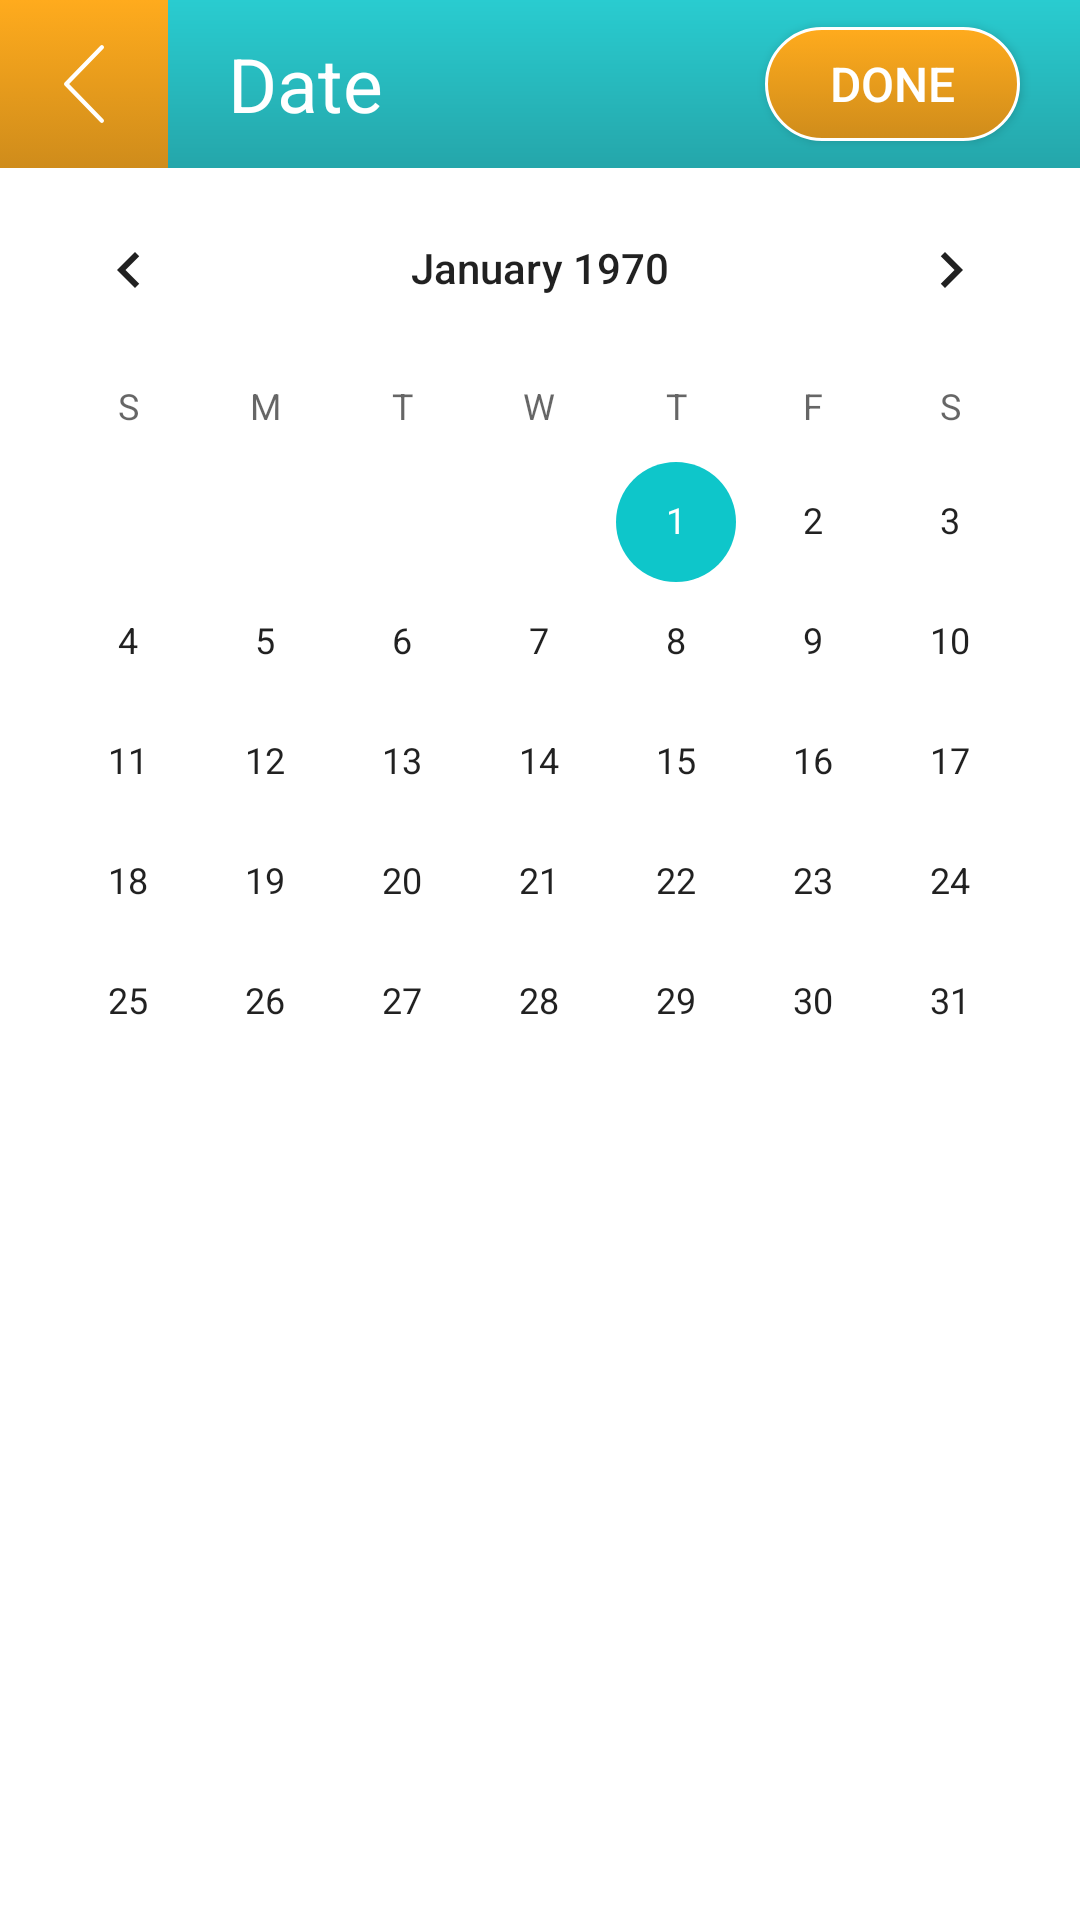

Point at icon controls on the screen. Image size 1080 × 1920, points as point (x, y).
arrow left: point (84, 84)
